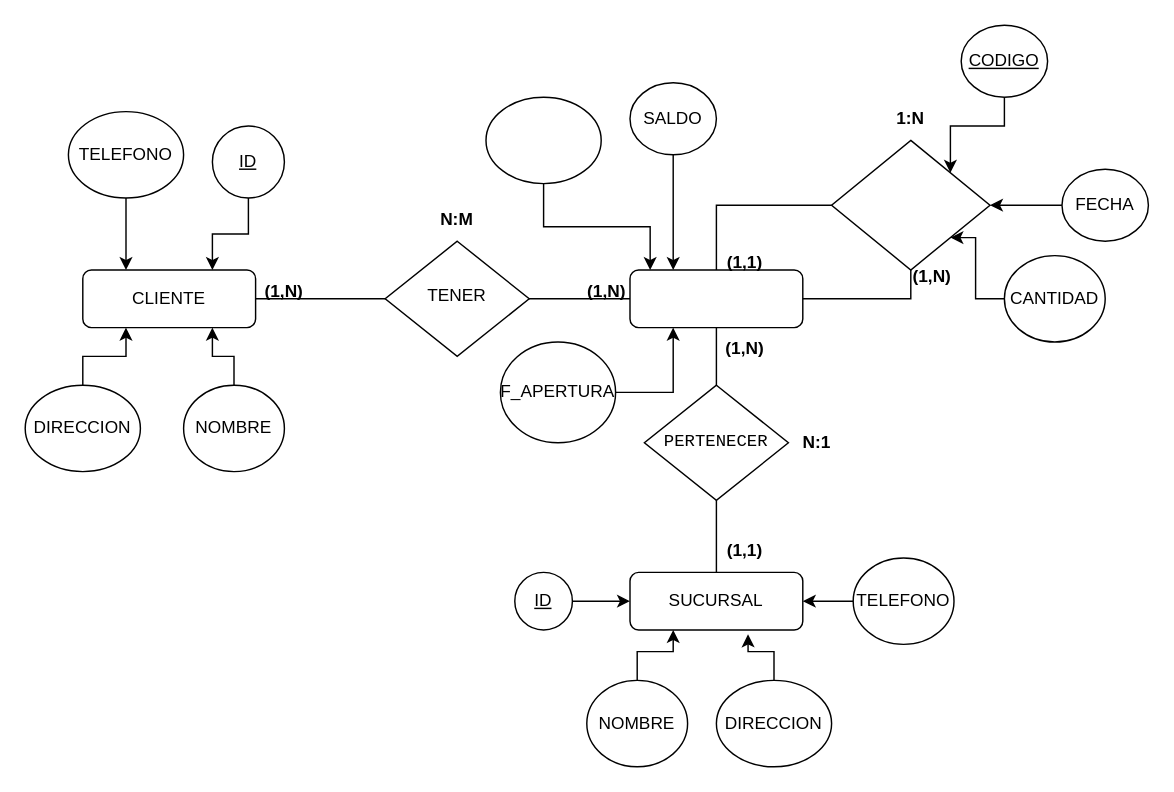
This 1174x792 diagram has some shape labels left out. Each missing label, with the box of its shape:
CUENTA: (629, 269, 803, 328)
ID_CUENTA: (485, 96, 601, 184)
TRANSACCION: (830, 139, 990, 270)
